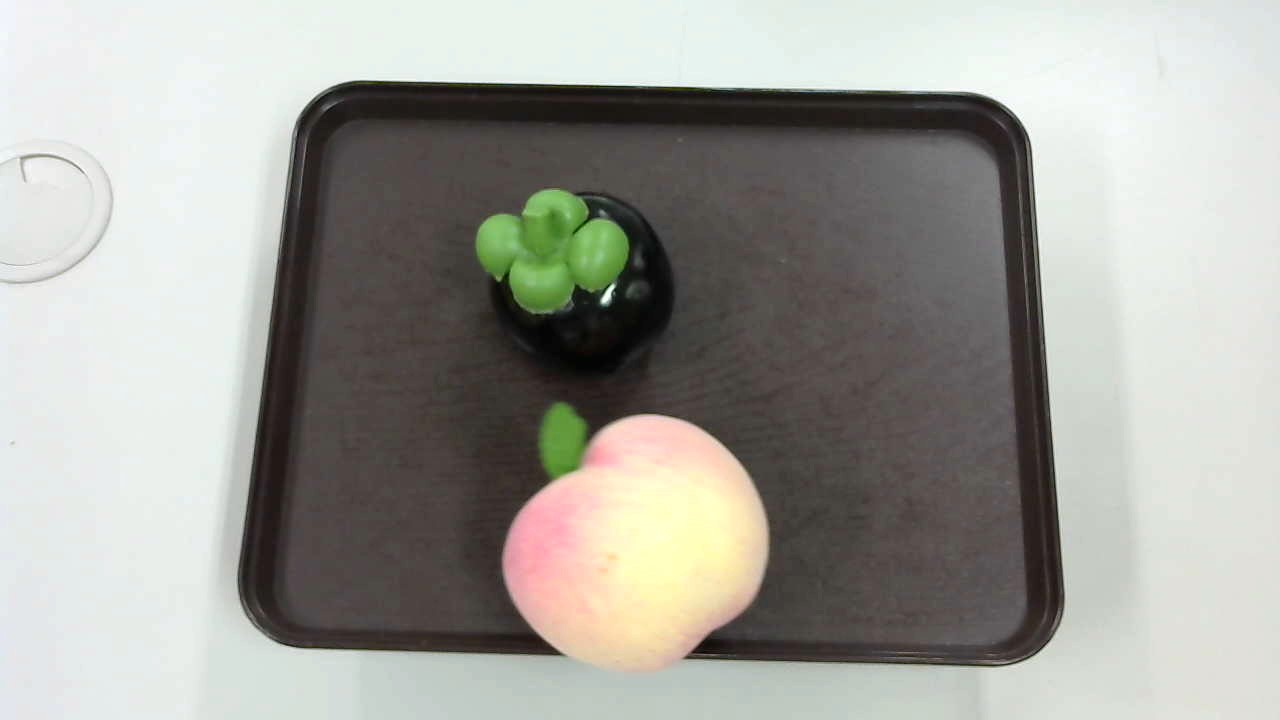mangosteen: (470, 186, 679, 369)
peach: (498, 398, 775, 683)
